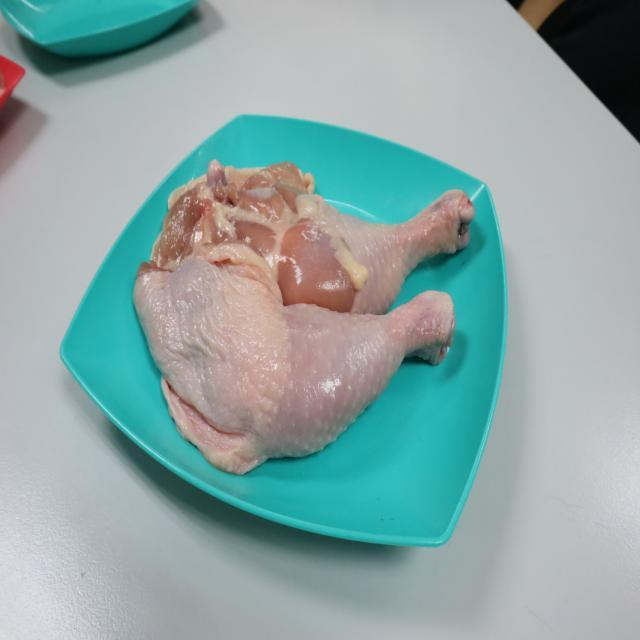quater: (134, 250, 452, 459), (172, 152, 477, 313)
